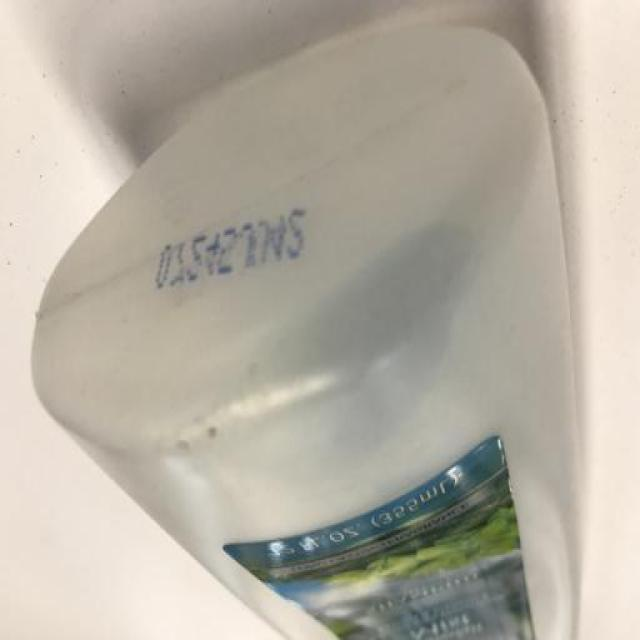Plastic: (30, 18, 580, 640)
